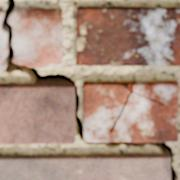brick: (77, 7, 179, 65), (83, 82, 177, 141), (0, 84, 74, 143), (0, 154, 169, 179)
broken_brick: (10, 7, 62, 68), (0, 30, 5, 69)
crack: (0, 0, 179, 179), (109, 82, 165, 133)
